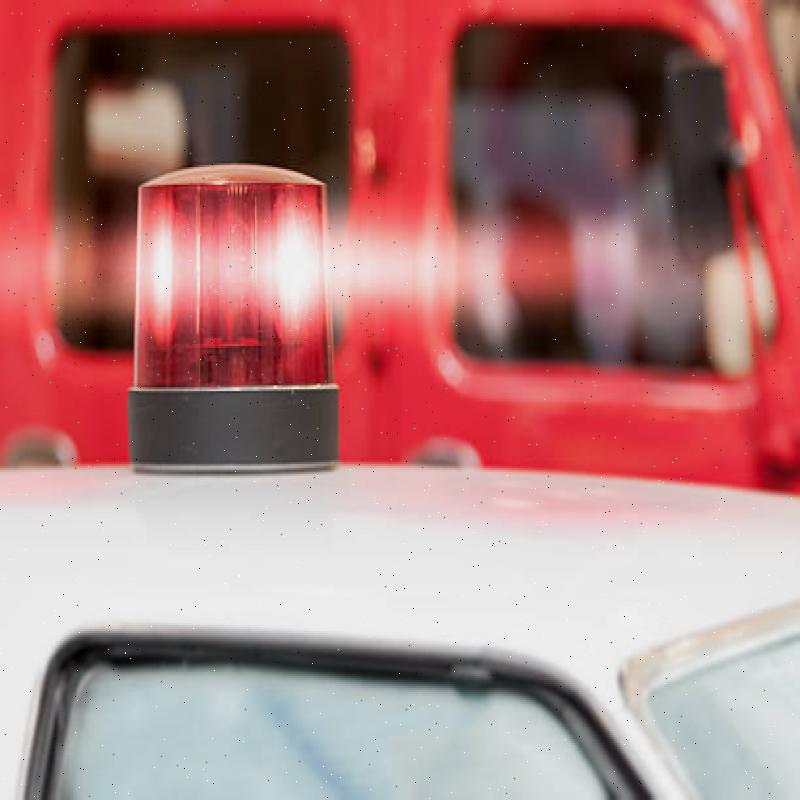AmbulanceSiren: (101, 120, 372, 541)
